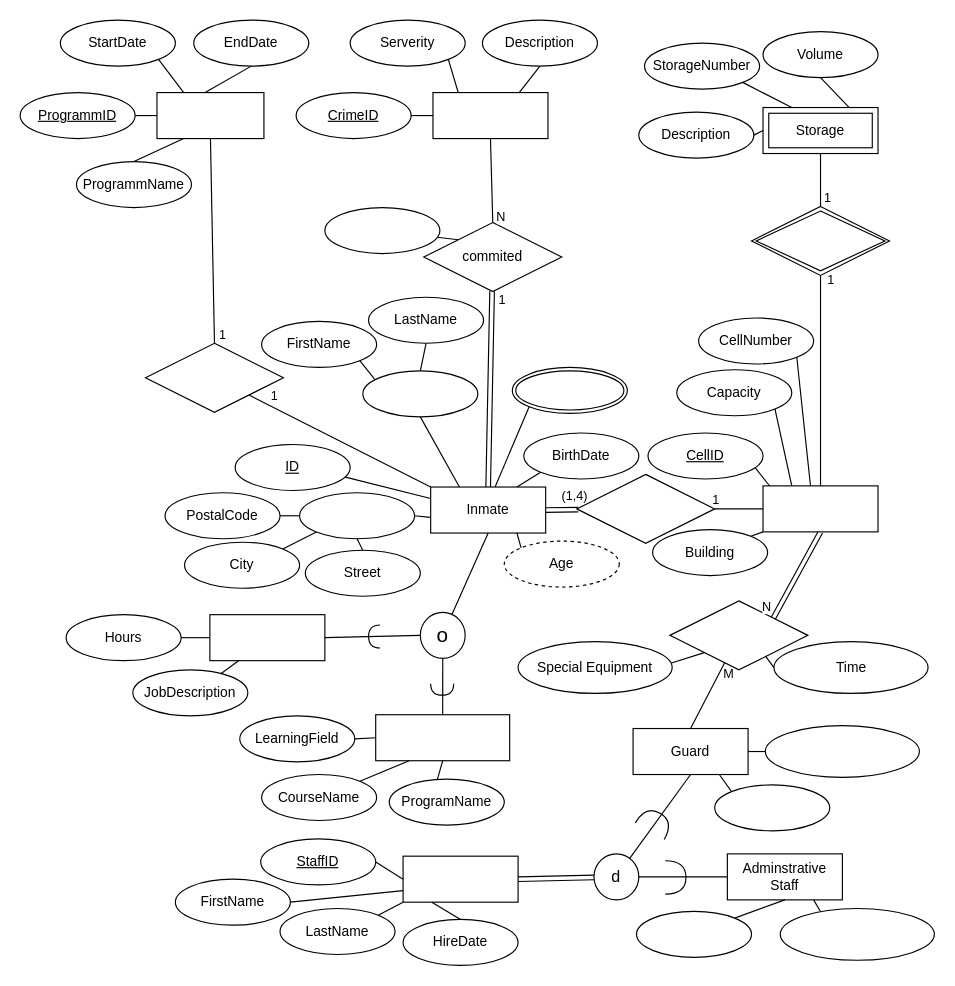
Some shapes in this 955 by 986 pixel diagram are drawn without their labels. The shapes that lost their labels are listed below. From the top down, each one's box as (x1, y1, x2, y2) in pixels, then its label:
(156, 91, 264, 139): Programm
(432, 91, 548, 139): Crime
(324, 206, 440, 254): Date
(750, 205, 890, 275): contains
(144, 342, 283, 412): participates
(362, 370, 478, 417): Name
(511, 366, 627, 413): PhoneNumber
(298, 492, 415, 539): Address
(576, 473, 715, 543): is assigned to
(762, 485, 878, 532): Cell
(209, 614, 325, 661): WorkingInmate
(669, 600, 808, 670): is guarded by
(375, 714, 510, 761): EducationalInmate
(764, 724, 919, 777): BuildingOfResponsibility
(714, 784, 830, 831): Shift
(402, 855, 518, 902): Staff
(635, 910, 752, 957): Jurisdiction
(779, 907, 934, 960): Departement
